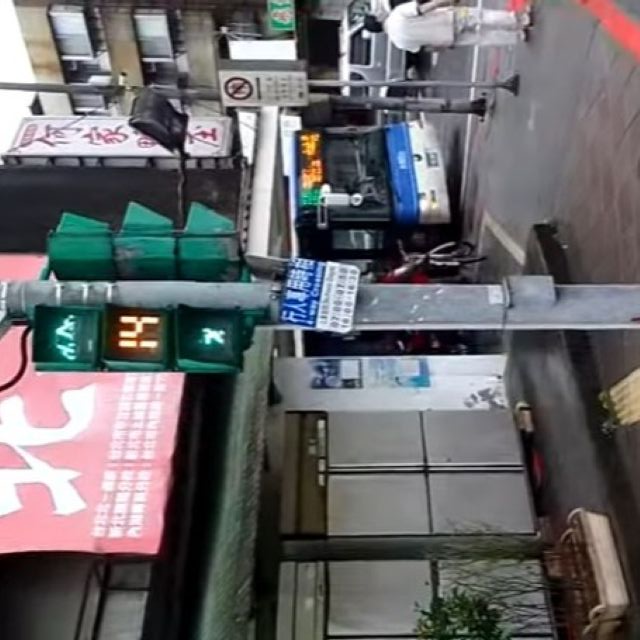green_light: (32, 309, 245, 373)
